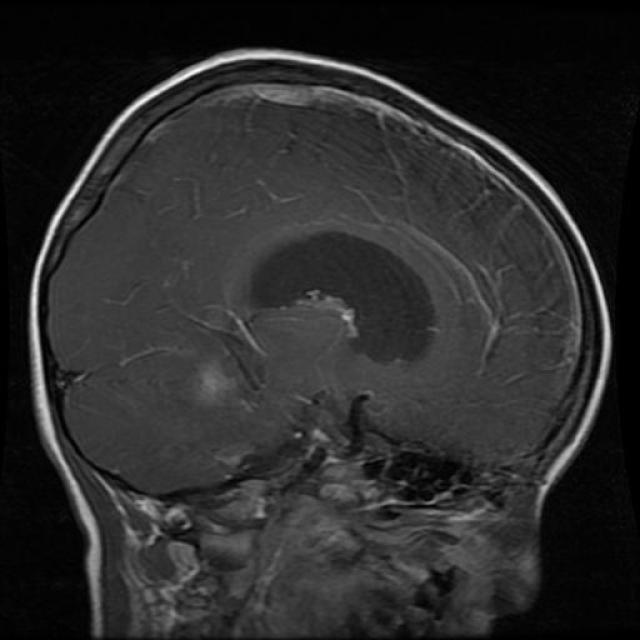glioma: (232, 226, 443, 374)
